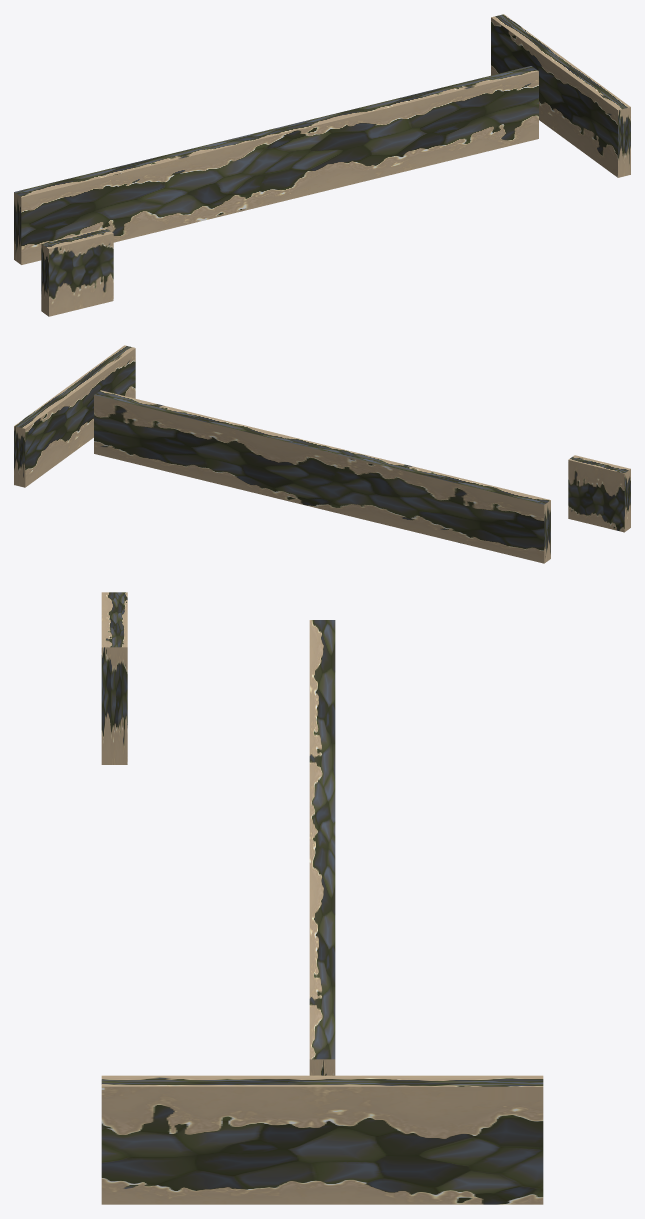
File: wall.fbx
3 renders of one model, top to bottom at view 1: azimuth 30°, elevation 25°; view 2: azimuth 150°, elevation 25°; view 3: azimuth 270°, elevation 25°, orthographic. The views are drawn at different scales.
Visible parts, largest first — view 1: Wall__5_, Wall__10_, Wall.001; view 2: Wall__5_, Wall__10_, Wall.001; view 3: Wall__10_, Wall__5_, Wall.001.
Part boxes in pixels (<box>): Wall__5_: <box>14,66,538,264</box>; Wall__10_: <box>491,14,630,177</box>; Wall.001: <box>41,228,113,316</box>; Wall__5_: <box>94,390,550,563</box>; Wall__10_: <box>14,345,135,487</box>; Wall.001: <box>568,455,630,532</box>; Wall__10_: <box>101,1075,543,1204</box>; Wall__5_: <box>309,620,335,1075</box>; Wall.001: <box>101,592,127,764</box>.
Bounding box in the file's own units: 4500 × 500 × 1700.
